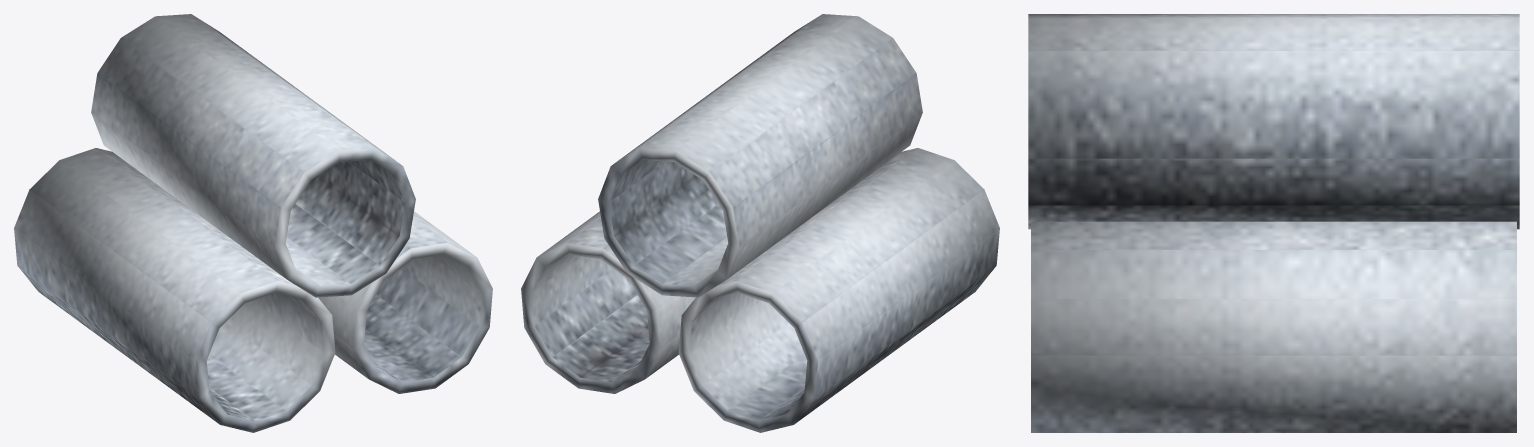
The model's file is concretepipepile.glb.
3 views of the same model, side by side, from view 1: azimuth 30°, elevation 25°; view 2: azimuth 150°, elevation 25°; view 3: azimuth 270°, elevation 25° (orthographic). The views are drawn at different scales.
Visible parts, largest first — view 1: ConcretePipePile; view 2: ConcretePipePile; view 3: ConcretePipePile.
Boxes of the visible parts, left/top/right/bottom form: ConcretePipePile: left=14, top=14, right=492, bottom=432; ConcretePipePile: left=521, top=14, right=999, bottom=432; ConcretePipePile: left=1028, top=14, right=1519, bottom=432.
Size of the model in its own units: 1.89 by 1.59 by 2.02.
1 material, 1 textured.
